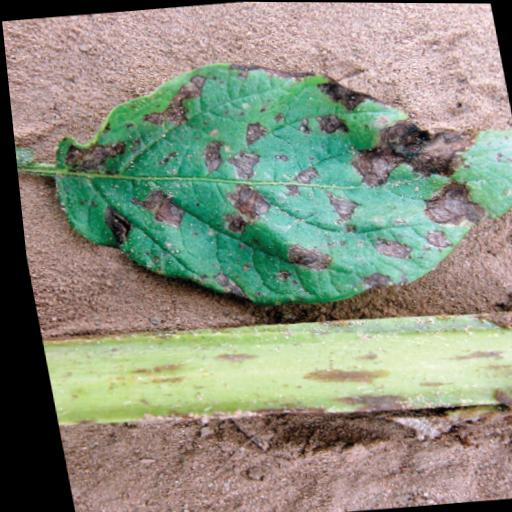Early Blight: (17, 31, 512, 324)
